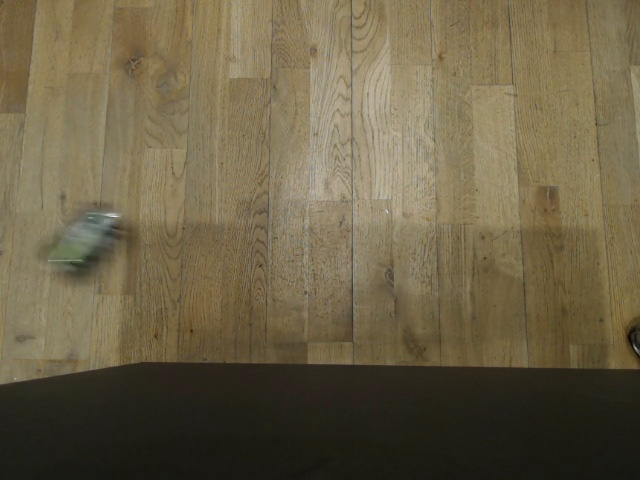beer: (48, 198, 126, 286)
